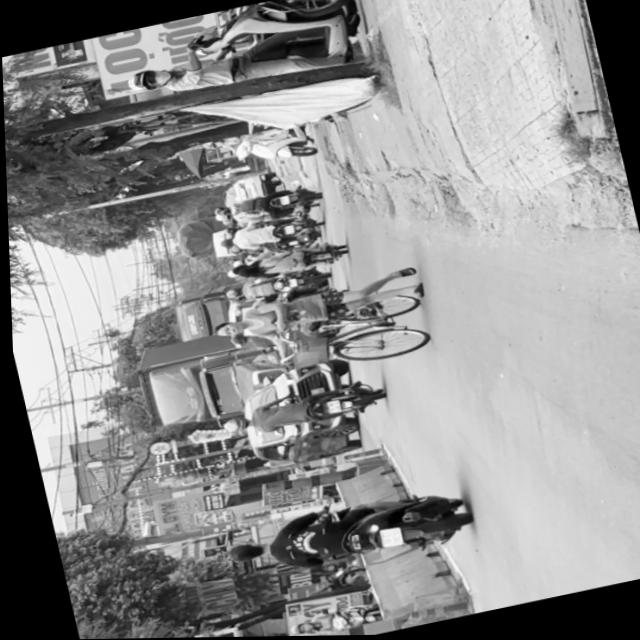licenseplate: (216, 481, 472, 590)
motorcyclist: (223, 539, 265, 567)
nohelmet: (374, 528, 399, 550)
